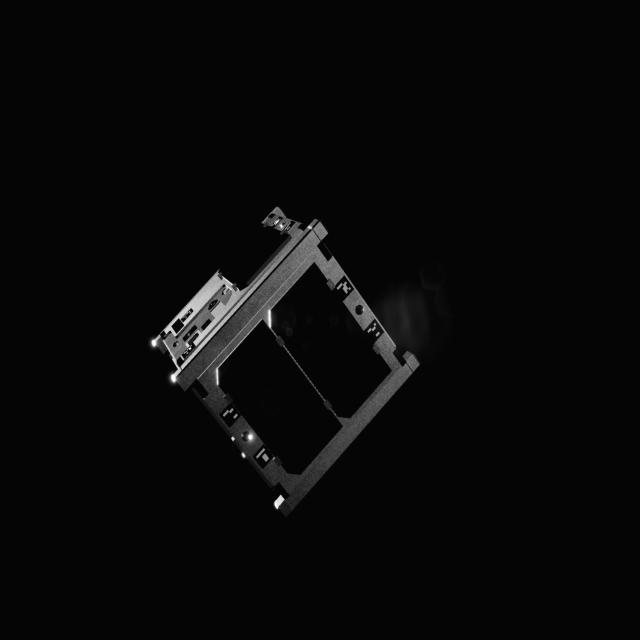medium_debris: (145, 198, 419, 525)
